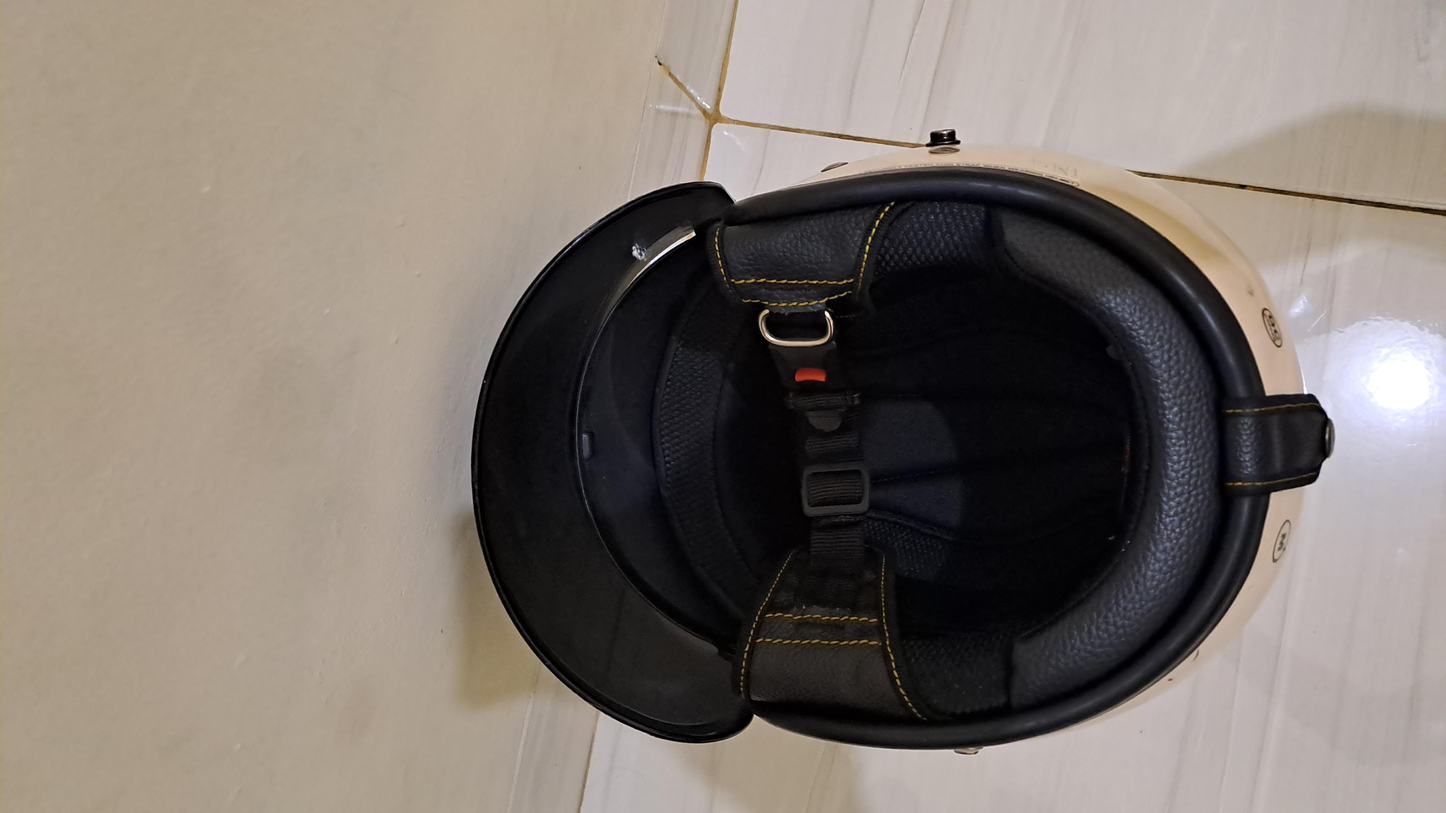helmet: (79, 252, 1217, 771)
